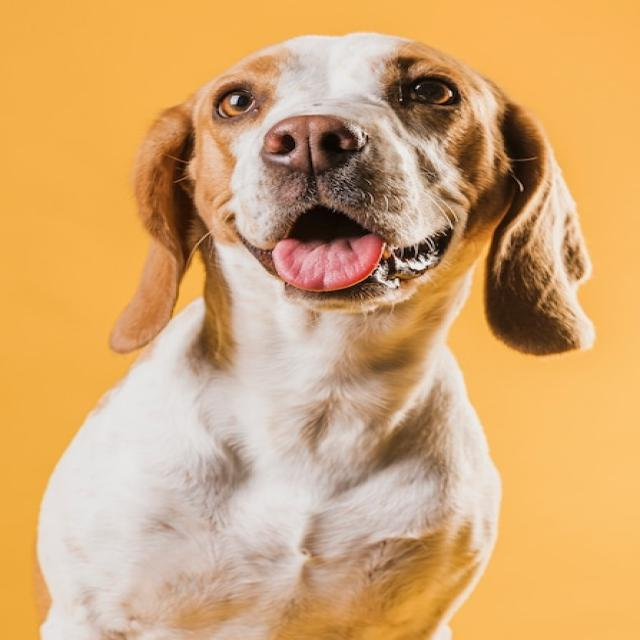Dog: (28, 30, 594, 640)
